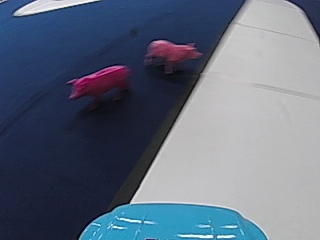pig: (65, 61, 131, 107), (145, 34, 201, 75)
